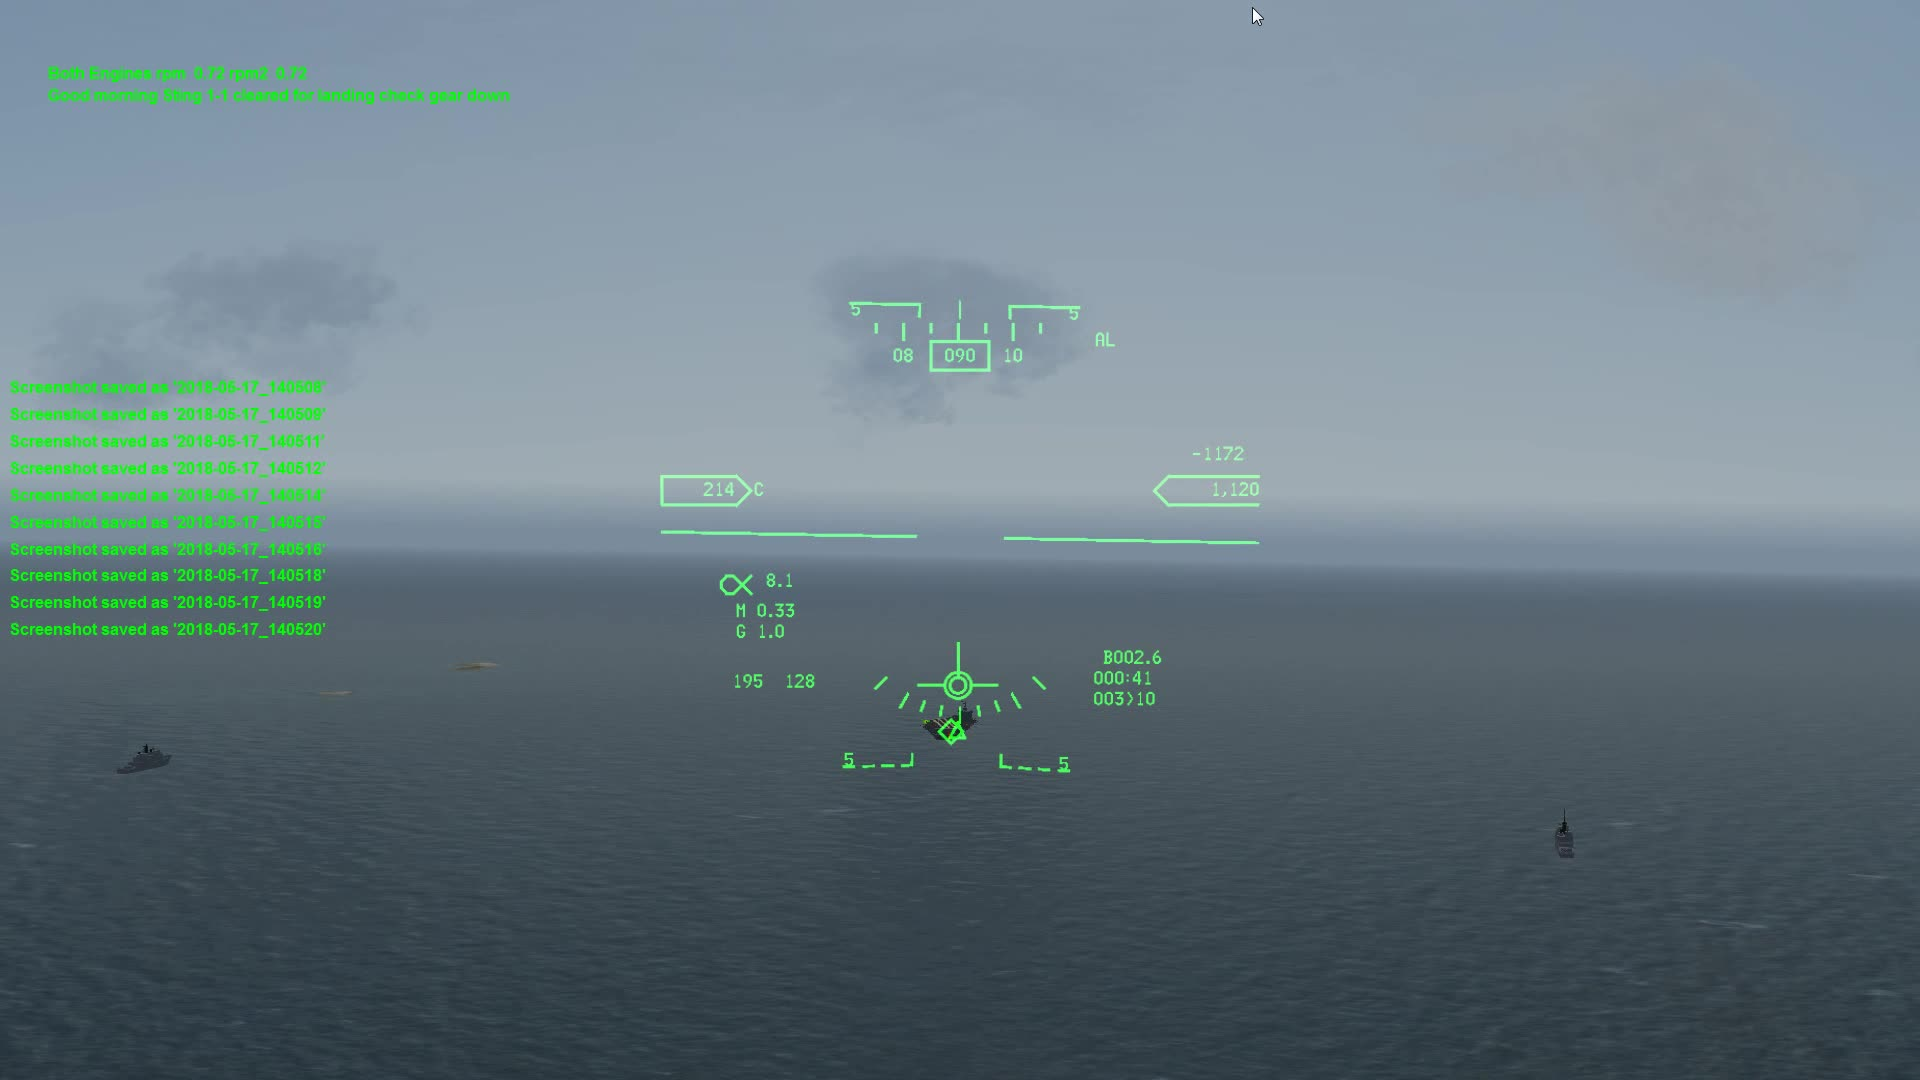speed vector: (916, 647, 1011, 705)
